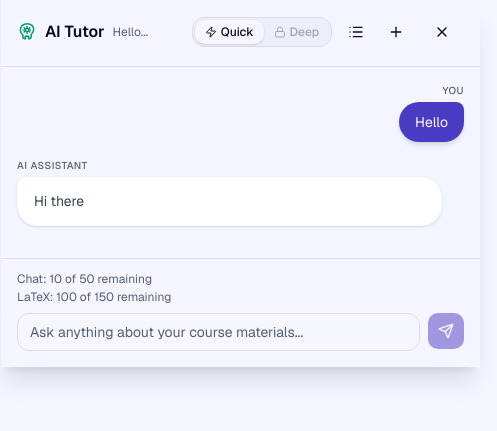
Scenario: AiChatPanel › clears messages when the new conversation button is clicked
Expected: the text "Hello" is shown, [399,102,464,142]
Expected: the text "Hi there" is shown, [34,192,84,210]
Click the button named "new conversation": (396, 32) [380,16,412,48]
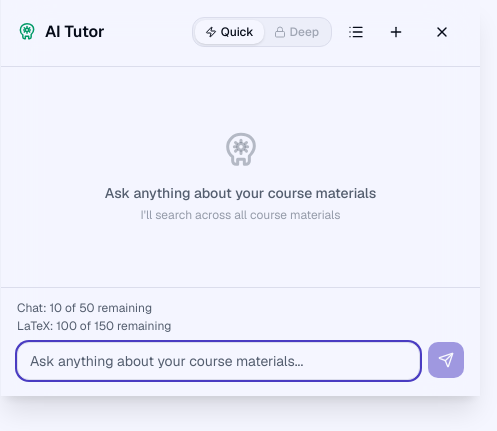
Now the text "Hello" is gone
Now the text "Hi there" is gone
Now the text "Ask anything about your course materials" is shown, box [105,183,376,203]
